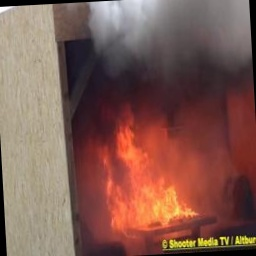fire: (86, 108, 217, 237)
smoke: (90, 0, 251, 84)
